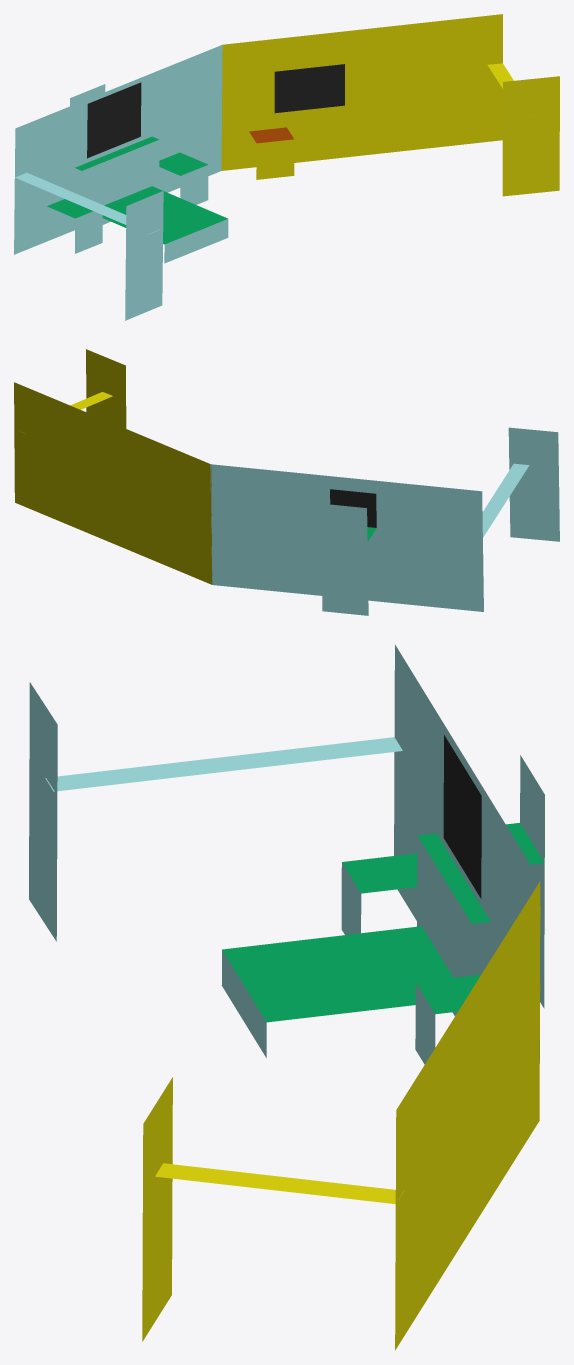
Rendered from room1_safeelements_bropening.fbx.
3 renders of one model, top to bottom at view 1: azimuth 30°, elevation 25°; view 2: azimuth 150°, elevation 25°; view 3: azimuth 270°, elevation 25°, orthographic. The views are drawn at different scales.
Visible parts, largest first — view 1: REF_room1_safeelements:polySurface6, REF_room1_safeelements:F_wall, REF_room1_safeelements:F_door, REF_room1_safeelements:bathroomdoor, REF_room1_safeelements:F_window, REF_room1_safeelements:F_headpiece, REF_room1_safeelements:polySurface5, REF_room1_safeelements:F_painting, REF_room1_safeelements:T_bed, REF_room1_safeelements:F_phonetable, REF_room1_safeelements:F_bed, REF_room1_safeelements:T_window (+6 smaller); view 2: REF_room1_safeelements:F_wall, REF_room1_safeelements:polySurface6, REF_room1_safeelements:F_window, REF_room1_safeelements:F_safe, REF_room1_safeelements:bathroomdoor, REF_room1_safeelements:F_door, REF_room1_safeelements:T_window, REF_room1_safeelements:F_painting; view 3: REF_room1_safeelements:polySurface6, REF_room1_safeelements:F_wall, REF_room1_safeelements:T_bed, REF_room1_safeelements:F_door, REF_room1_safeelements:F_window, REF_room1_safeelements:T_window, REF_room1_safeelements:bathroomdoor, REF_room1_safeelements:F_headpiece, REF_room1_safeelements:F_painting, REF_room1_safeelements:T_door, REF_room1_safeelements:F_safe, REF_room1_safeelements:T_nightstand_L (+5 smaller).
Boxes of the visible parts, x1,y1,x2,y2 form: REF_room1_safeelements:polySurface6: [221, 14, 502, 170]; REF_room1_safeelements:F_wall: [14, 45, 222, 254]; REF_room1_safeelements:F_door: [502, 76, 559, 196]; REF_room1_safeelements:bathroomdoor: [378, 49, 426, 153]; REF_room1_safeelements:F_window: [125, 191, 163, 320]; REF_room1_safeelements:F_headpiece: [81, 140, 159, 224]; REF_room1_safeelements:polySurface5: [274, 64, 344, 113]; REF_room1_safeelements:F_painting: [87, 82, 141, 158]; REF_room1_safeelements:T_bed: [102, 186, 227, 244]; REF_room1_safeelements:F_phonetable: [256, 139, 294, 179]; REF_room1_safeelements:F_bed: [164, 219, 228, 263]; REF_room1_safeelements:T_window: [15, 172, 159, 234]; REF_room1_safeelements:F_wall: [210, 464, 483, 611]; REF_room1_safeelements:polySurface6: [14, 382, 212, 584]; REF_room1_safeelements:F_window: [508, 427, 559, 541]; REF_room1_safeelements:F_safe: [321, 503, 368, 615]; REF_room1_safeelements:bathroomdoor: [67, 430, 102, 538]; REF_room1_safeelements:F_door: [86, 349, 126, 428]; REF_room1_safeelements:T_window: [482, 463, 529, 537]; REF_room1_safeelements:F_painting: [330, 489, 376, 527]; REF_room1_safeelements:polySurface6: [395, 880, 540, 1350]; REF_room1_safeelements:F_wall: [394, 644, 540, 1059]; REF_room1_safeelements:T_bed: [222, 926, 453, 1022]; REF_room1_safeelements:F_door: [142, 1077, 172, 1341]; REF_room1_safeelements:F_window: [29, 682, 57, 941]; REF_room1_safeelements:T_window: [45, 737, 402, 791]; REF_room1_safeelements:bathroomdoor: [434, 1059, 459, 1287]; REF_room1_safeelements:F_headpiece: [417, 836, 471, 1015]; REF_room1_safeelements:F_painting: [443, 735, 481, 898]; REF_room1_safeelements:T_door: [155, 1163, 403, 1204]; REF_room1_safeelements:F_safe: [520, 755, 544, 1008]; REF_room1_safeelements:T_nightstand_L: [342, 853, 417, 893].
Size of the model in its own units: 91.51 by 43.57 by 23.35.
